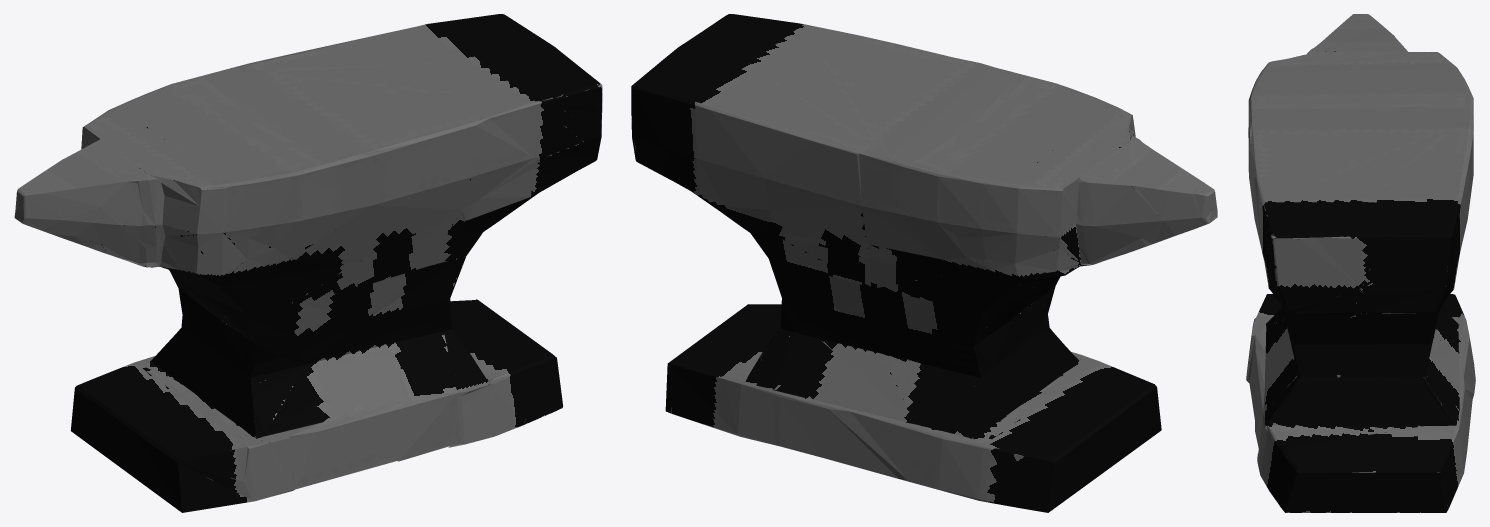
3 renders of one model, left to right at view 1: azimuth 30°, elevation 25°; view 2: azimuth 150°, elevation 25°; view 3: azimuth 270°, elevation 25°, orthographic. The views are drawn at different scales.
Visible parts, largest first — view 1: OBJ0d7; view 2: OBJ0d7; view 3: OBJ0d7.
Boxes of the visible parts, box(x1,y1,x2,y2) form: OBJ0d7: box(14, 14, 602, 512); OBJ0d7: box(631, 14, 1217, 512); OBJ0d7: box(1246, 14, 1475, 512).
Size of the model in its own units: 0.317 by 0.1817 by 0.1287.
Materials: 1 (1 with a texture image).
